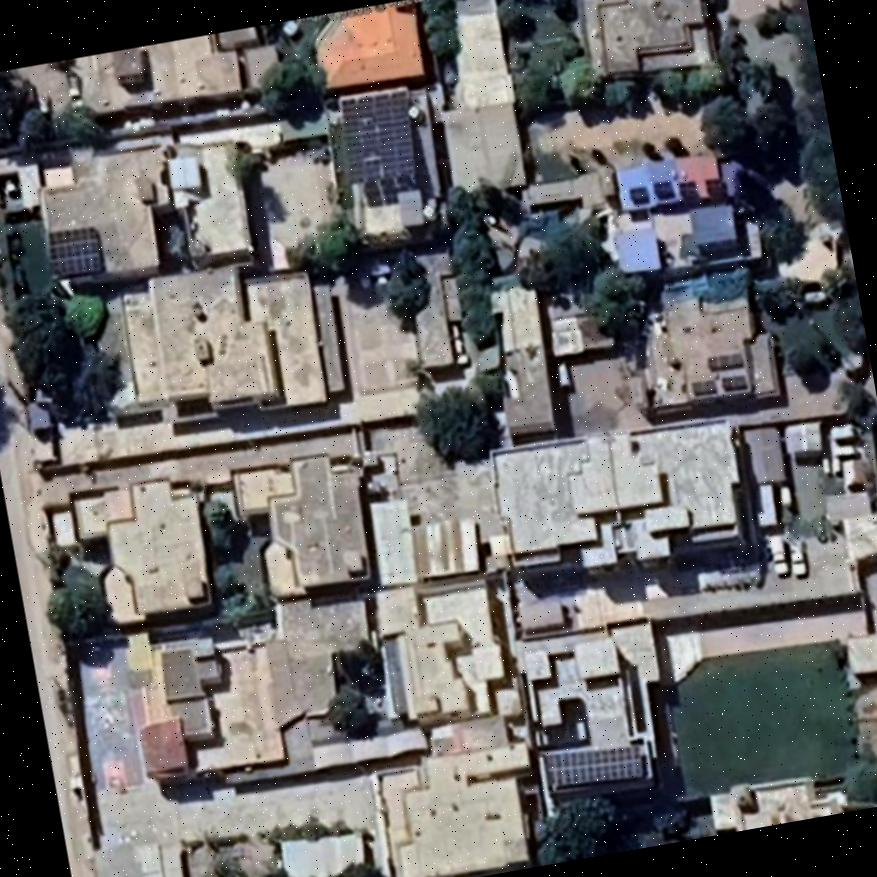Solarpanel: (342, 89, 414, 185), (541, 747, 643, 785), (46, 228, 103, 274)
